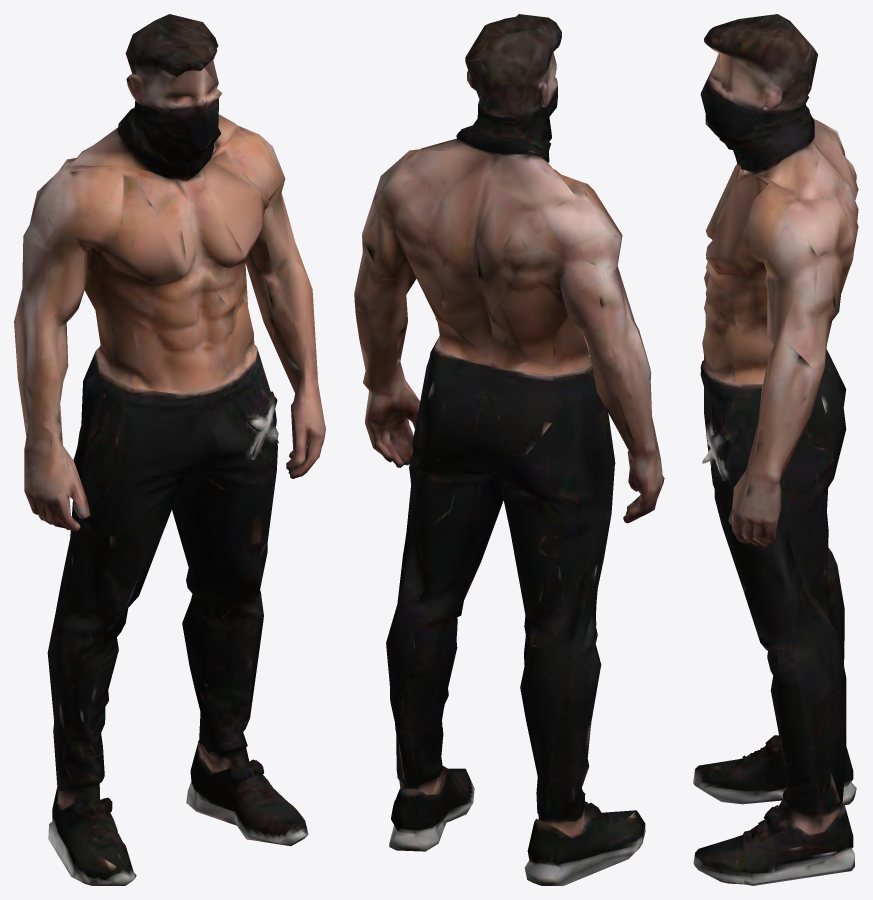
File: AYTEX-low.glb
The picture shows the model from 3 angles, left to right: view 1: azimuth 30°, elevation 25°; view 2: azimuth 150°, elevation 25°; view 3: azimuth 270°, elevation 25°; orthographic projection.
Parts seen in each view (by area): view 1: tripo_node_702948ec-c2ff-4e3d-88d6-e6a9e156c5cf; view 2: tripo_node_702948ec-c2ff-4e3d-88d6-e6a9e156c5cf; view 3: tripo_node_702948ec-c2ff-4e3d-88d6-e6a9e156c5cf.
Part boxes in pixels (left/top/right/bottom): tripo_node_702948ec-c2ff-4e3d-88d6-e6a9e156c5cf: left=14, top=14, right=325, bottom=885; tripo_node_702948ec-c2ff-4e3d-88d6-e6a9e156c5cf: left=354, top=14, right=664, bottom=885; tripo_node_702948ec-c2ff-4e3d-88d6-e6a9e156c5cf: left=693, top=14, right=858, bottom=885.
Size of the model in its own units: 0.3653 by 0.9754 by 0.1798.
1 material, 1 textured.
